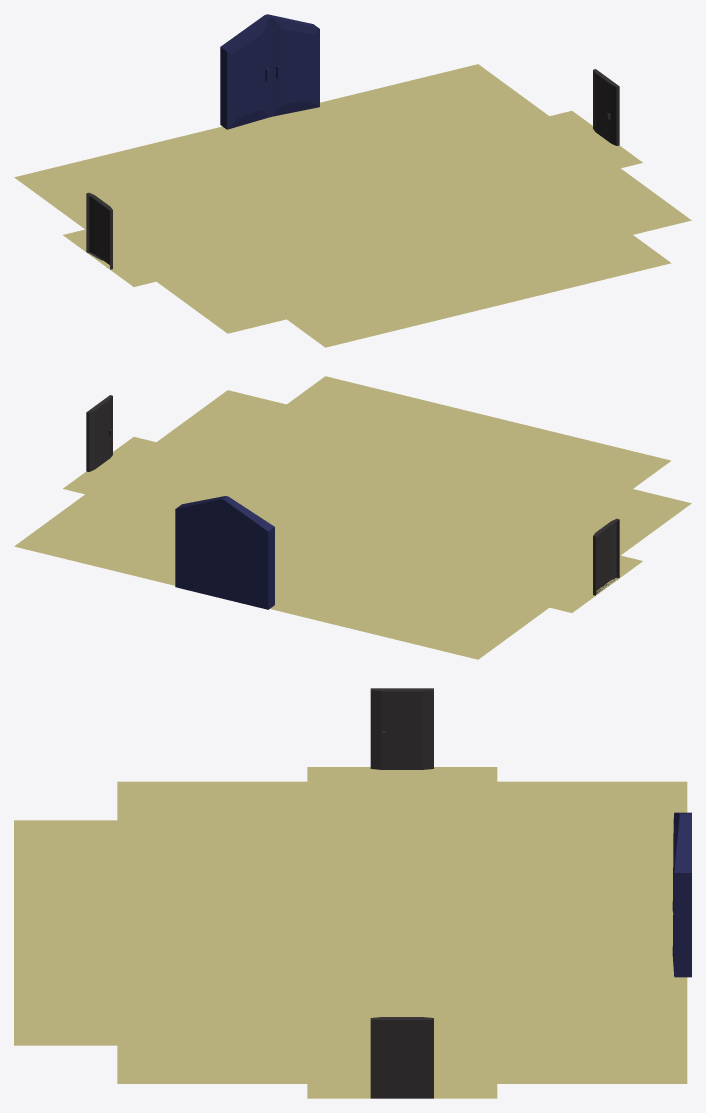
File: ByakkoStage2.fbx
3 renders of one model, top to bottom at view 1: azimuth 30°, elevation 25°; view 2: azimuth 150°, elevation 25°; view 3: azimuth 270°, elevation 25°, orthographic. The views are drawn at different scales.
Visible parts, largest first — view 1: Plane.010, Plane.055, Plane.029; view 2: Plane.010, Plane.055, Plane.029; view 3: Plane.010, Plane.029, Plane.055.
Part boxes in pixels (bbox=[...]): Plane.010: bbox=[14, 64, 691, 347]; Plane.055: bbox=[220, 14, 319, 129]; Plane.029: bbox=[86, 69, 619, 269]; Plane.010: bbox=[14, 376, 691, 659]; Plane.055: bbox=[175, 496, 274, 609]; Plane.029: bbox=[86, 395, 619, 595]; Plane.010: bbox=[14, 767, 687, 1098]; Plane.029: bbox=[370, 688, 433, 1098]; Plane.055: bbox=[672, 812, 691, 977].
Bounding box in the file's own units: 88.44 × 16.5 × 76.4.
